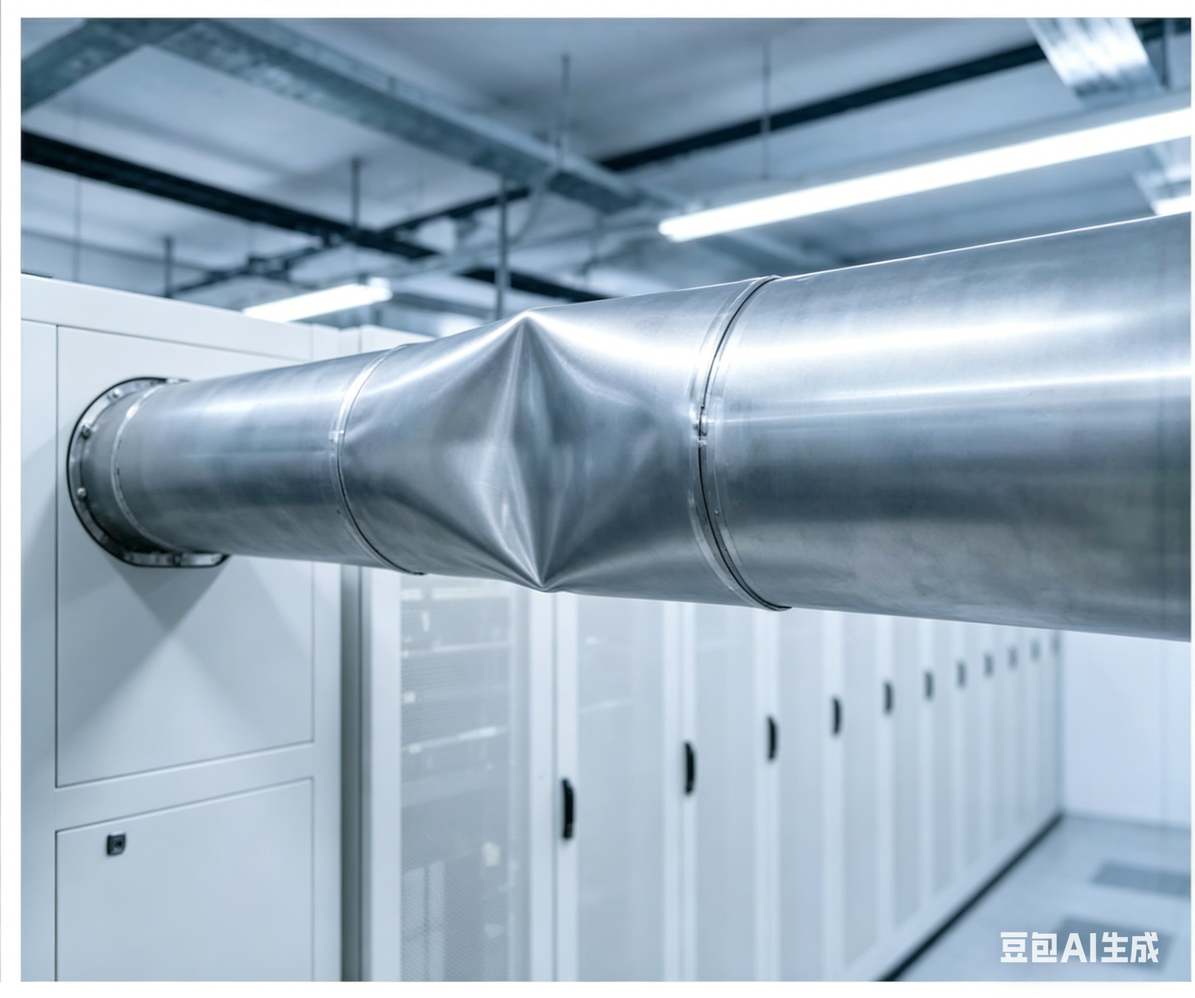Leakage: (449, 307, 676, 593)
